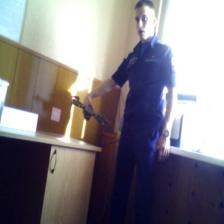drone: (68, 90, 110, 134)
